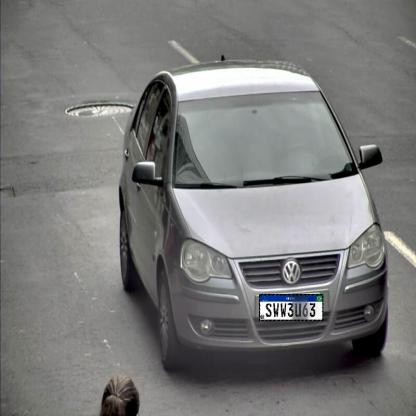PlacaM: (259, 294, 323, 321)
